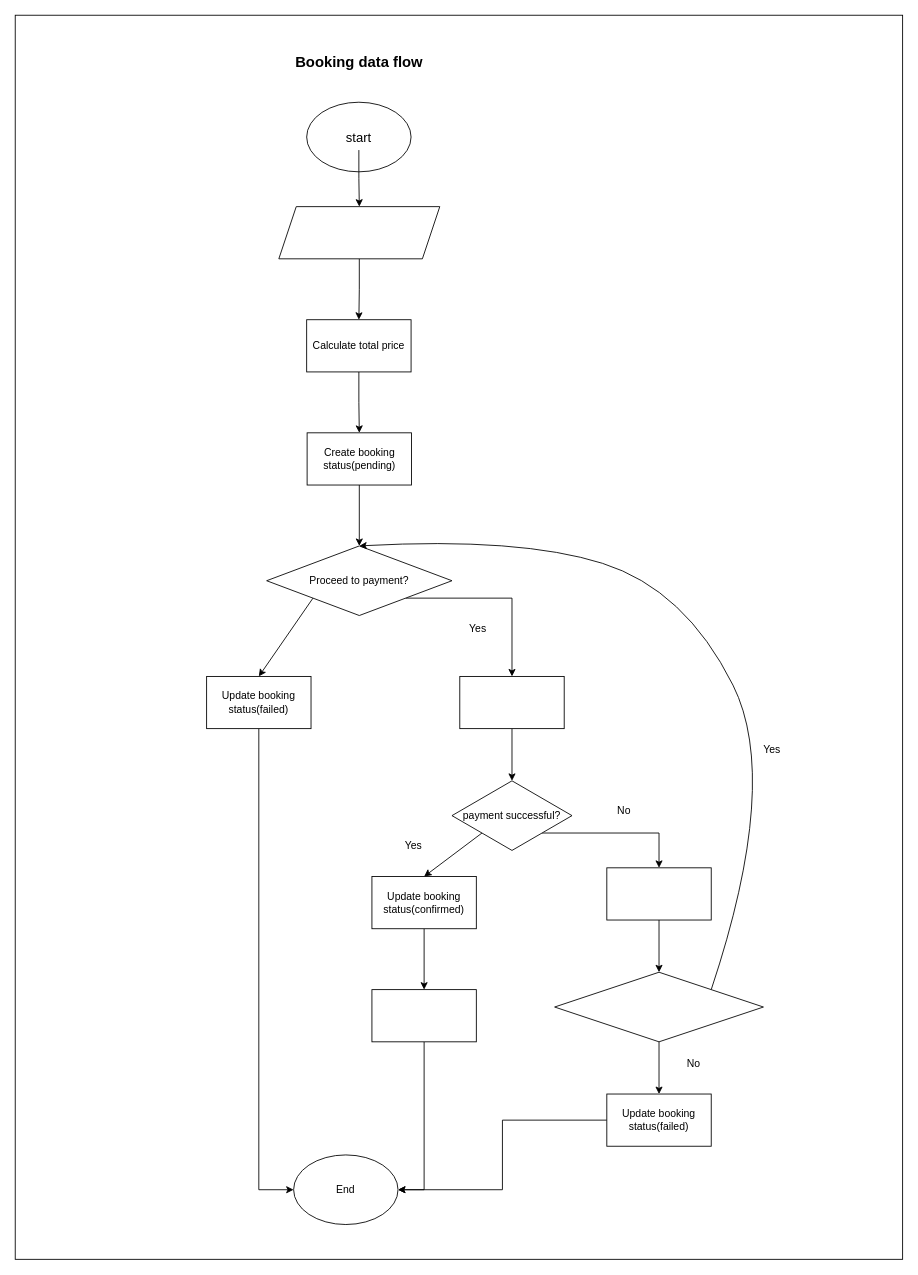
The diagram is 918 pixels wide and 1275 high, and some of its shapes have lost their labels. The shapes that lost their labels are listed below. From the top down, each one's centre as x and y in pixels, then its label:
pixel 359 232: User enters booking details
pixel 511 702: Process payment
pixel 658 893: Keep booking status(pending)
pixel 423 1015: Send confirmation notification
pixel 658 1006: Use alternate payment?
